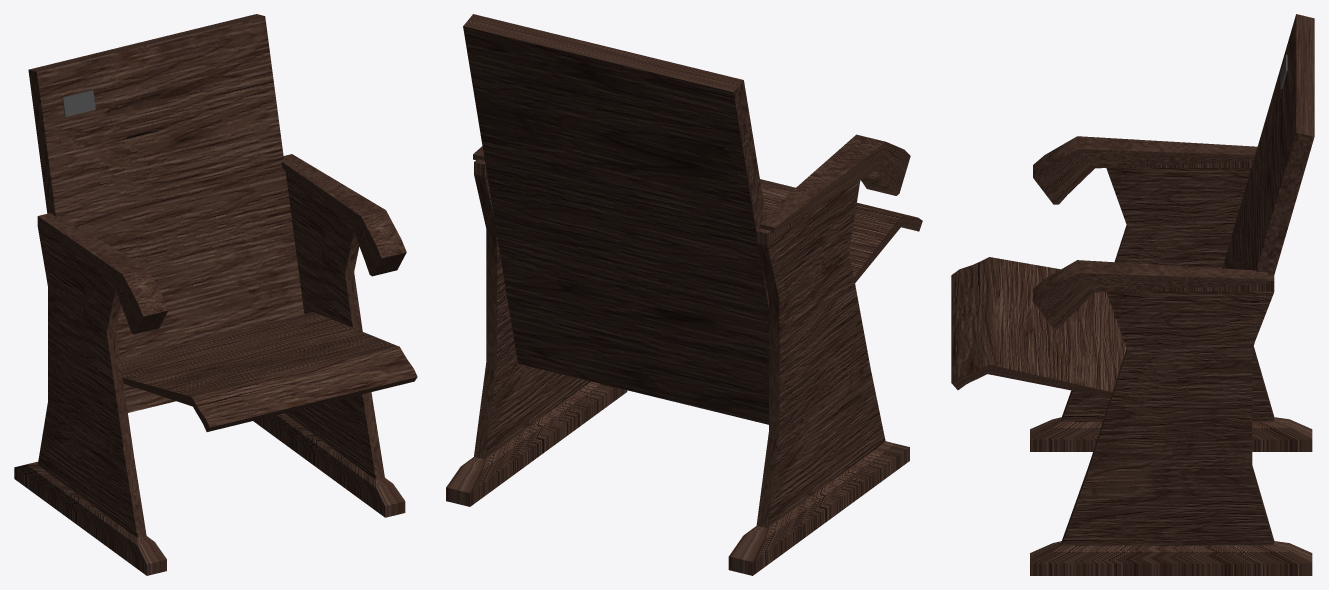
Rendered from Silla_Unity.fbx.
The picture shows the model from 3 angles, left to right: view 1: azimuth 30°, elevation 25°; view 2: azimuth 150°, elevation 25°; view 3: azimuth 270°, elevation 25°; orthographic projection. The views are drawn at different scales.
Parts seen in each view (by area): view 1: pCube5, pCube7, pCube1, pCube2, pCube6, pCube4, pCube8; view 2: pCube5, pCube7, pCube2, pCube6, pCube1; view 3: pCube2, pCube7, pCube1, pCube5, pCube4, pCube6.
Part boxes in pixels (x1,y1,x2,y2): pCube5: [28, 14, 304, 412]; pCube7: [14, 221, 166, 575]; pCube1: [120, 312, 417, 431]; pCube2: [253, 170, 405, 517]; pCube6: [37, 213, 168, 334]; pCube4: [281, 154, 406, 276]; pCube8: [62, 90, 95, 116]; pCube5: [463, 14, 768, 424]; pCube7: [728, 180, 909, 575]; pCube2: [446, 159, 627, 506]; pCube6: [759, 134, 910, 232]; pCube1: [760, 179, 922, 282]; pCube2: [1030, 276, 1312, 575]; pCube7: [1030, 161, 1312, 451]; pCube1: [951, 257, 1126, 397]; pCube5: [1222, 14, 1314, 349]; pCube4: [1033, 260, 1267, 328]; pCube6: [1033, 136, 1257, 204].
Bounding box in the file's own units: 1.72 × 2.56 × 1.93.
2 materials, 1 textured.
